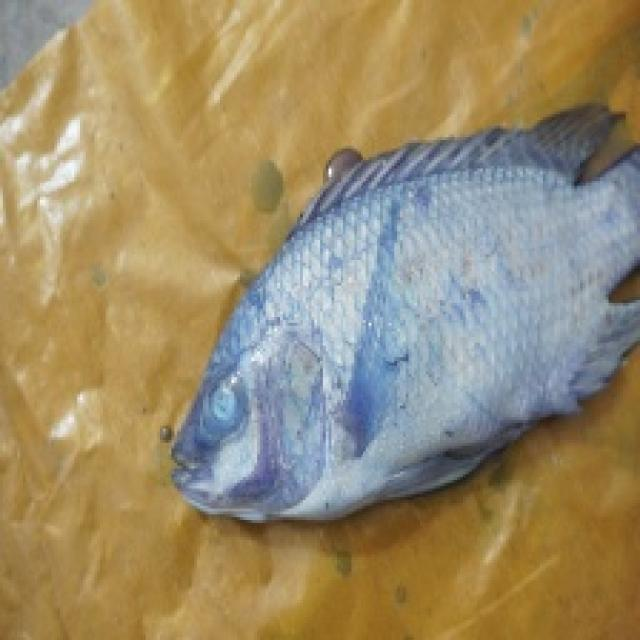Non-Fresh: (268, 199, 529, 495), (191, 372, 257, 440)
